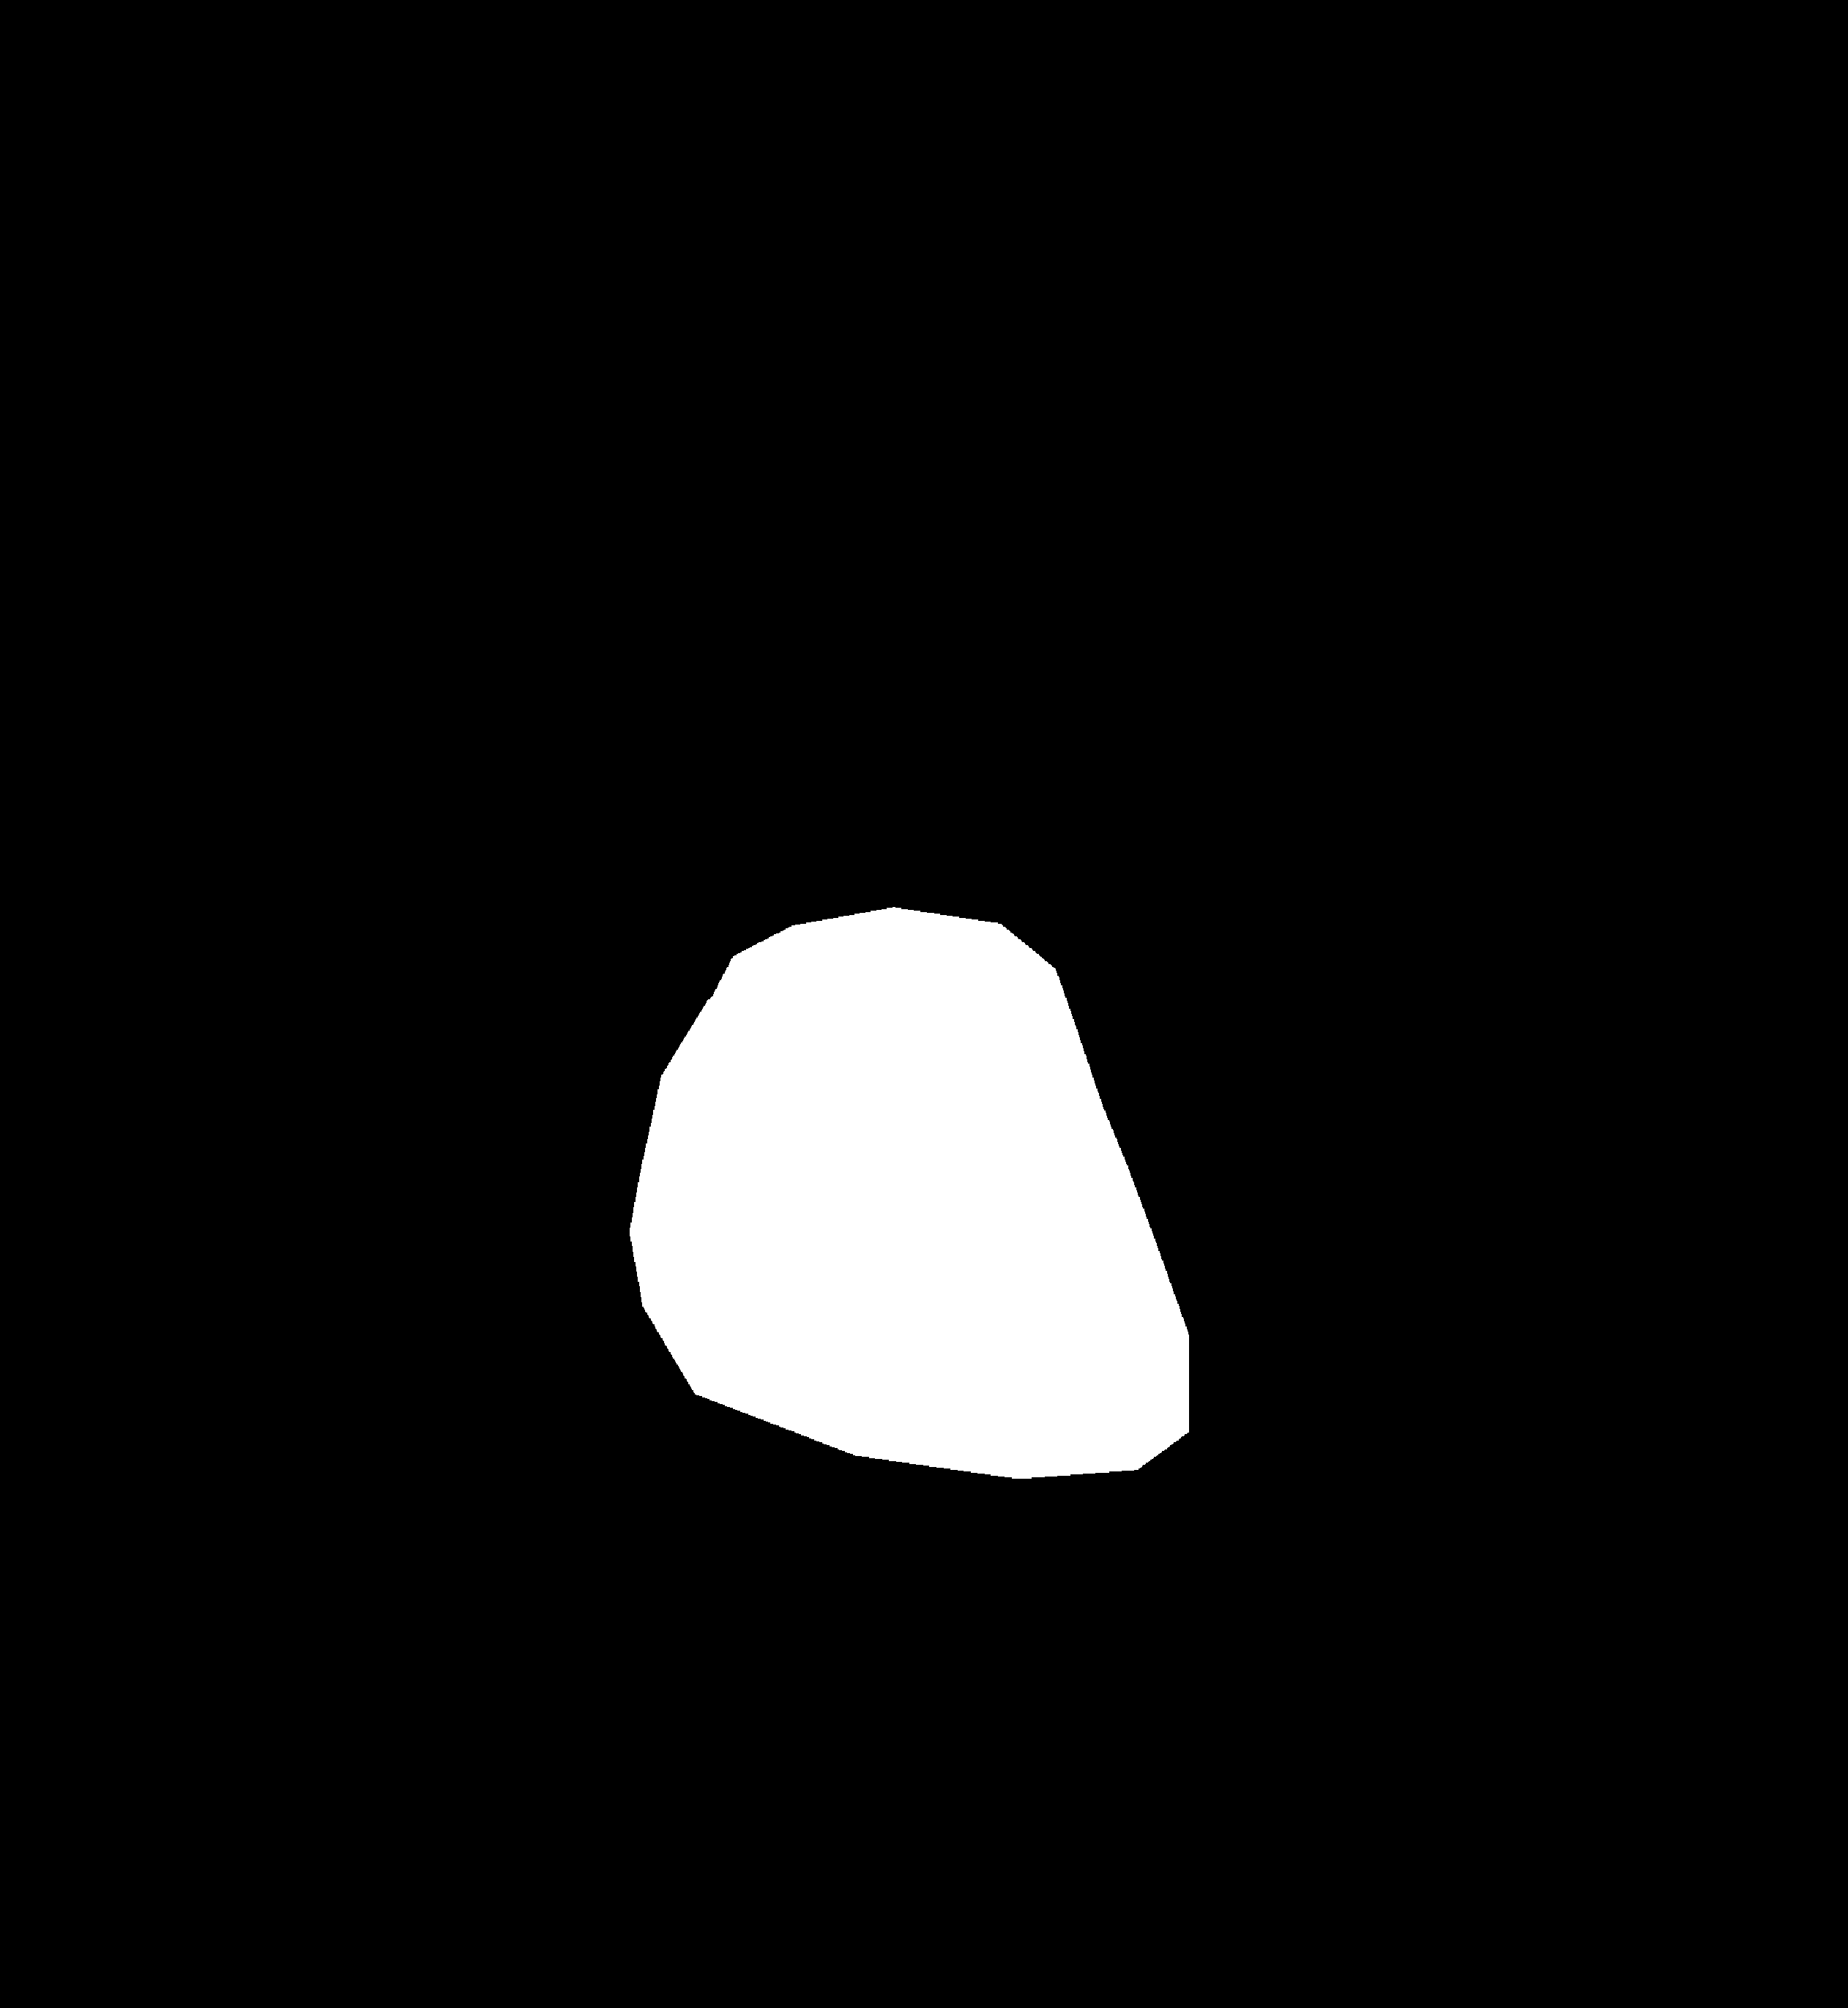heart: (632, 997, 1267, 1550)
left_lung: (325, 229, 794, 1609)
right_lung: (985, 231, 1613, 1623)
